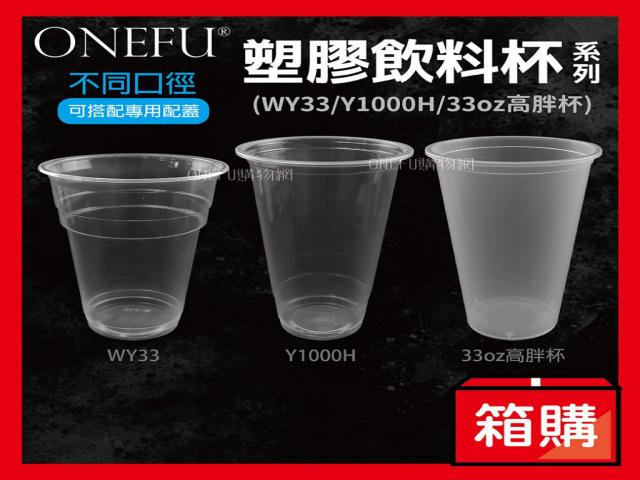cup: (235, 136, 414, 340), (425, 136, 602, 340), (39, 154, 228, 340)
